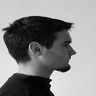ear: (26, 37, 45, 59)
